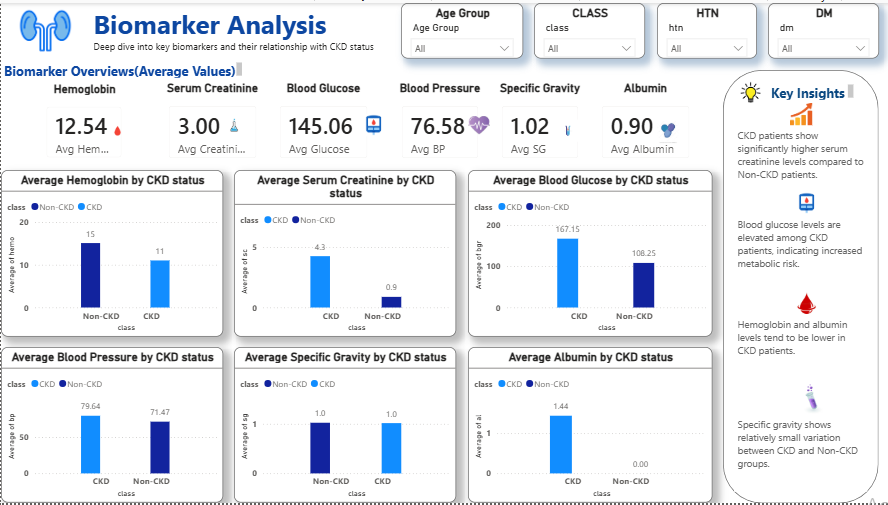

What the dashboard file says about the page in this screenshot:
{"tool":"powerbi","page":{"name":"Biomarker Analysis","canvas":[1280,720],"ordinal":1},"visuals":[{"type":"image","box":[0,0,128,80],"z":0},{"type":"textbox","box":[128,0,432,80],"z":1000},{"type":"slicer","title":"Age Group","fields":{"Values":["dashboard_dataset_real.Age Group"]},"box":[576,0,176,80],"z":2000},{"type":"slicer","title":"CLASS","fields":{"Values":["dashboard_dataset_real.class"]},"box":[768,0,160,80],"z":3000},{"type":"slicer","title":"HTN","fields":{"Values":["dashboard_dataset_real.htn"]},"box":[944,0,144,80],"z":4000},{"type":"slicer","title":"DM","fields":{"Values":["dashboard_dataset_real.dm"]},"box":[1104,0,160,80],"z":5000},{"type":"cardVisual","title":"Hemoglobin","fields":{"Data":["dashboard_dataset_real.Avg Hemoglobin"]},"box":[48,112,144,128],"z":6000},{"type":"image","box":[160,160,16,48],"z":7000},{"type":"cardVisual","title":"Serum Creatinine","fields":{"Data":["dashboard_dataset_real.Avg Creatinine"]},"box":[224,112,160,128],"z":8000},{"type":"image","box":[320,160,32,32],"z":9000},{"type":"cardVisual","title":"Blood Glucose","fields":{"Data":["dashboard_dataset_real.Avg Glucose"]},"box":[384,112,160,128],"z":10000},{"type":"image","box":[512,160,48,32],"z":11000},{"type":"cardVisual","title":"Blood Pressure","fields":{"Data":["dashboard_dataset_real.Avg BP"]},"box":[560,112,144,128],"z":12000},{"type":"image","box":[672,160,32,32],"z":13000},{"type":"cardVisual","title":"Specific Gravity","fields":{"Data":["dashboard_dataset_real.Avg SG"]},"box":[704,112,144,128],"z":14000},{"type":"image","box":[800,160,32,48],"z":15000},{"type":"cardVisual","title":"Albumin","fields":{"Data":["dashboard_dataset_real.Avg Albumin"]},"box":[848,112,160,128],"z":16000},{"type":"image","box":[944,160,32,48],"z":17000},{"type":"textbox","box":[0,80,352,32],"z":18000},{"type":"clusteredColumnChart","title":"Average Hemoglobin by CKD status","fields":{"Category":["dashboard_dataset_real.class"],"Y":["Avg(dashboard_dataset_real.hemo)"],"Series":["dashboard_dataset_real.class"]},"box":[0,240,320,240],"z":19000},{"type":"clusteredColumnChart","title":"Average Serum Creatinine by CKD status","fields":{"Category":["dashboard_dataset_real.class"],"Series":["dashboard_dataset_real.class"],"Y":["Avg(dashboard_dataset_real.sc)"]},"box":[336,240,320,240],"z":20000},{"type":"clusteredColumnChart","title":"Average Blood Glucose by CKD status","fields":{"Category":["dashboard_dataset_real.class"],"Series":["dashboard_dataset_real.class"],"Y":["Avg(dashboard_dataset_real.bgr)"]},"box":[672,240,352,240],"z":21000},{"type":"clusteredColumnChart","title":"Average Blood Pressure by CKD status","fields":{"Category":["dashboard_dataset_real.class"],"Series":["dashboard_dataset_real.class"],"Y":["Avg(dashboard_dataset_real.bp)"]},"box":[0,496,320,224],"z":22000},{"type":"clusteredColumnChart","title":"Average Specific Gravity by CKD status","fields":{"Category":["dashboard_dataset_real.class"],"Series":["dashboard_dataset_real.class"],"Y":["Avg(dashboard_dataset_real.sg)"]},"box":[336,496,320,224],"z":23000},{"type":"clusteredColumnChart","title":"Average Albumin by CKD status","fields":{"Category":["dashboard_dataset_real.class"],"Series":["dashboard_dataset_real.class"],"Y":["Avg(dashboard_dataset_real.al)"]},"box":[672,496,352,224],"z":24000},{"type":"shape","box":[1040,96,224,624],"z":25000},{"type":"textbox","box":[1104,112,128,32],"z":26000},{"type":"image","box":[1056,112,48,32],"z":27000},{"type":"textbox","box":[1056,176,192,96],"z":28000},{"type":"image","box":[1136,144,32,32],"z":29000},{"type":"image","box":[1136,272,48,32],"z":30000},{"type":"textbox","box":[1056,304,192,96],"z":31000},{"type":"image","box":[1136,400,48,64],"z":32000},{"type":"textbox","box":[1056,448,192,96],"z":33000},{"type":"image","box":[1136,544,64,48],"z":34000},{"type":"textbox","box":[1056,592,192,112],"z":35000}]}

Visuals, with their boxes in screenshot pixels (x1, y1, x2, y2), scaled from the page's 1280x720 canvas onto the 888x505 screenshot:
image: 0/0/89/56
textbox: 89/0/388/56
"Age Group" slicer: 400/0/522/56
"CLASS" slicer: 533/0/644/56
"HTN" slicer: 655/0/755/56
"DM" slicer: 766/0/877/56
"Hemoglobin" cardVisual: 33/79/133/168
image: 111/112/122/146
"Serum Creatinine" cardVisual: 155/79/266/168
image: 222/112/244/135
"Blood Glucose" cardVisual: 266/79/377/168
image: 355/112/388/135
"Blood Pressure" cardVisual: 388/79/488/168
image: 466/112/488/135
"Specific Gravity" cardVisual: 488/79/588/168
image: 555/112/577/146
"Albumin" cardVisual: 588/79/699/168
image: 655/112/677/146
textbox: 0/56/244/79
"Average Hemoglobin by CKD status" clusteredColumnChart: 0/168/222/337
"Average Serum Creatinine by CKD status" clusteredColumnChart: 233/168/455/337
"Average Blood Glucose by CKD status" clusteredColumnChart: 466/168/710/337
"Average Blood Pressure by CKD status" clusteredColumnChart: 0/348/222/504
"Average Specific Gravity by CKD status" clusteredColumnChart: 233/348/455/504
"Average Albumin by CKD status" clusteredColumnChart: 466/348/710/504
shape: 722/67/877/504
textbox: 766/79/855/101
image: 733/79/766/101
textbox: 733/123/866/191
image: 788/101/810/123
image: 788/191/821/213
textbox: 733/213/866/281
image: 788/281/821/325
textbox: 733/314/866/382
image: 788/382/832/415
textbox: 733/415/866/494
